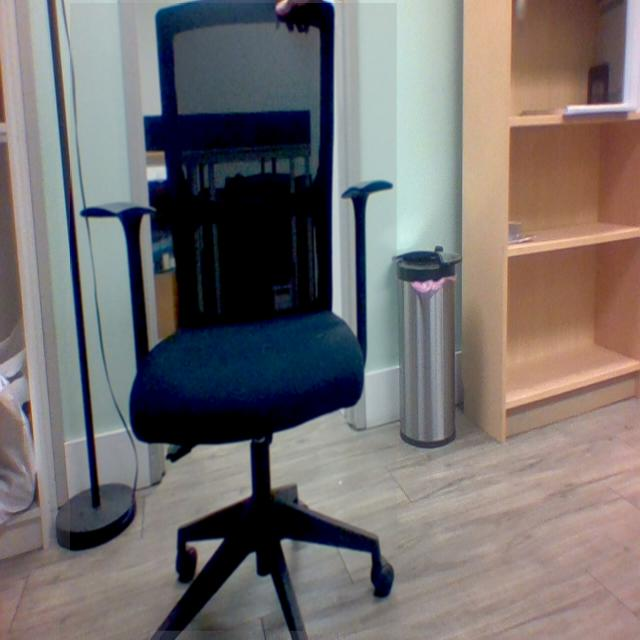black-chair: (70, 3, 398, 632)
